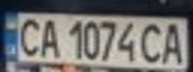0: (81, 17, 100, 61)
1: (63, 17, 84, 60)
4: (115, 19, 142, 62)
7: (97, 18, 118, 61)
A: (157, 19, 190, 64), (36, 16, 63, 58)
C: (136, 20, 169, 64), (12, 15, 45, 57)
